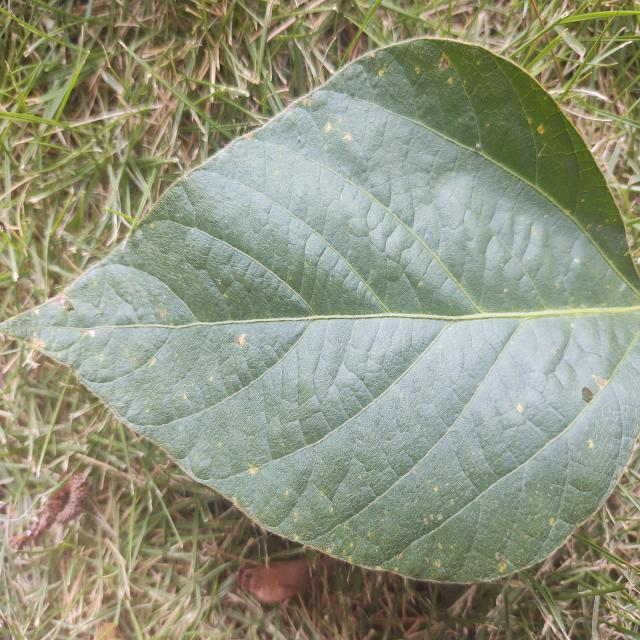Soybean: (3, 37, 640, 590)
downey_mildew: (182, 138, 369, 318), (94, 312, 305, 422), (415, 447, 563, 582), (323, 470, 446, 581), (509, 67, 591, 213), (123, 222, 248, 316), (414, 37, 503, 163), (392, 189, 475, 307), (489, 228, 554, 308), (5, 319, 342, 333), (446, 305, 640, 323)
